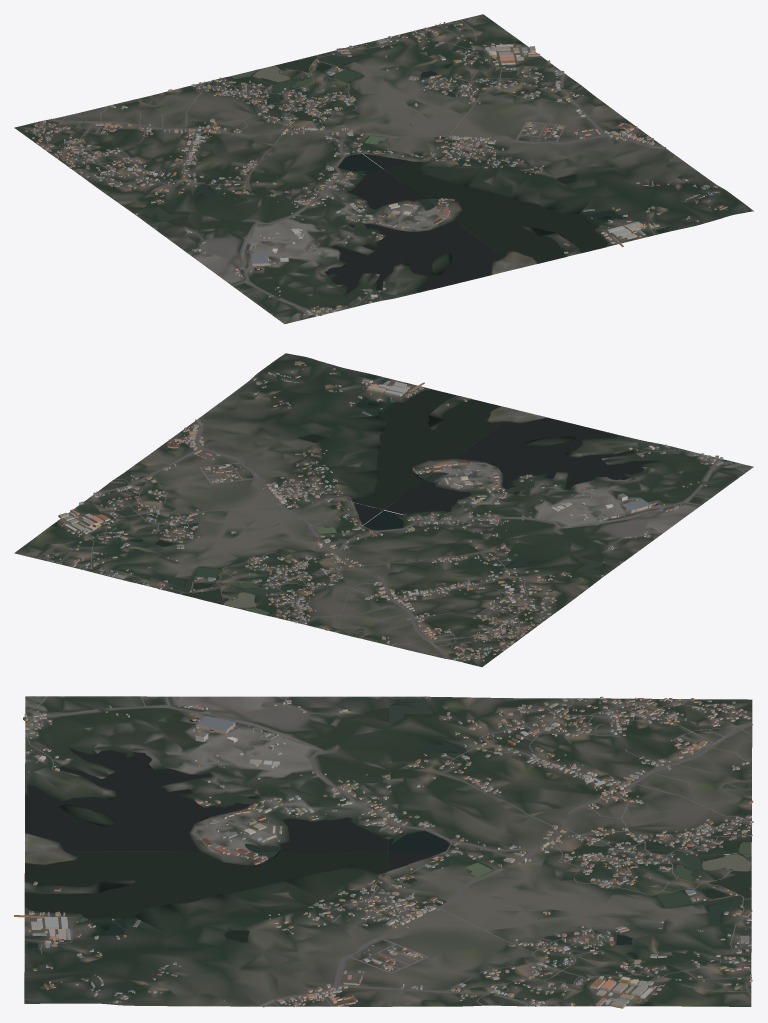
3 views of the same model, one above another, from view 1: azimuth 30°, elevation 25°; view 2: azimuth 150°, elevation 25°; view 3: azimuth 270°, elevation 25° (orthographic). The views are drawn at different scales.
Parts seen in each view (by area): view 1: ground, water, buildings, roads; view 2: ground, water, buildings, roads; view 3: ground, water, buildings, roads.
Part boxes in pixels (bbox=[...]): ground: bbox=[14, 14, 753, 324]; water: bbox=[130, 41, 695, 294]; buildings: bbox=[25, 22, 727, 316]; roads: bbox=[38, 18, 669, 318]; ground: bbox=[14, 353, 753, 666]; water: bbox=[52, 368, 670, 638]; buildings: bbox=[45, 361, 726, 661]; roads: bbox=[31, 377, 745, 659]; ground: bbox=[24, 696, 752, 1006]; water: bbox=[25, 700, 751, 1005]; buildings: bbox=[14, 696, 753, 1008]; roads: bbox=[25, 696, 752, 1007].
Size of the model in its own units: 2825 by 42.68 by 2854.
